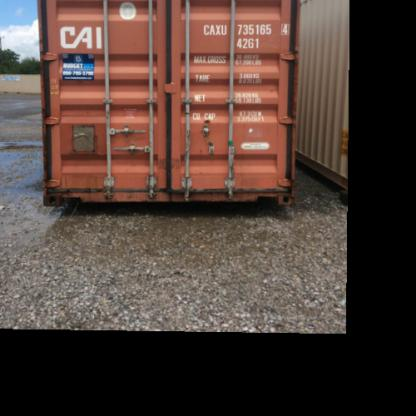Damage: (35, 171, 166, 204), (172, 180, 287, 202), (155, 147, 181, 172)
